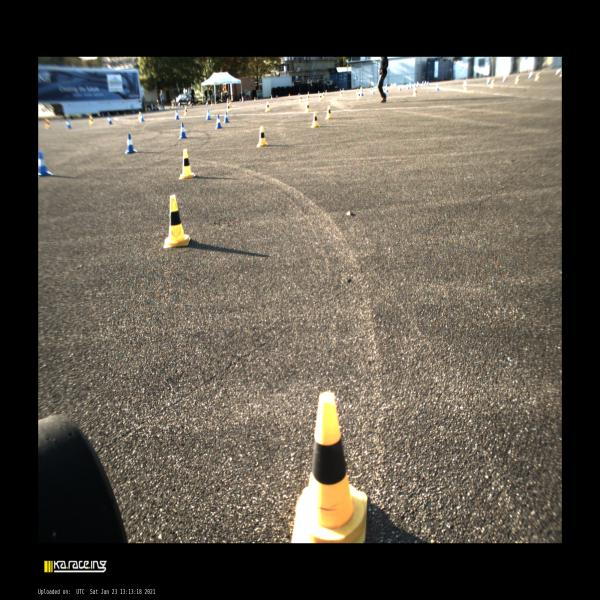blue_cone: (38, 152, 54, 176), (125, 133, 137, 154), (179, 122, 188, 138), (215, 114, 222, 128), (224, 111, 230, 122), (174, 110, 180, 120), (66, 119, 72, 129), (206, 109, 211, 120), (360, 86, 364, 96), (140, 113, 144, 122), (462, 80, 466, 88), (109, 116, 112, 125), (436, 83, 439, 91), (487, 77, 490, 84), (372, 88, 375, 94), (386, 86, 389, 92), (407, 83, 410, 89), (416, 81, 419, 87), (399, 84, 401, 91), (384, 88, 386, 94), (424, 80, 426, 86), (410, 83, 412, 88), (414, 82, 416, 87), (427, 81, 429, 86), (339, 88, 341, 92), (102, 114, 104, 117), (132, 110, 134, 113), (206, 102, 208, 105), (239, 99, 241, 102), (256, 97, 258, 100), (276, 95, 278, 98), (298, 93, 300, 96), (422, 80, 423, 85), (164, 107, 165, 111), (318, 90, 319, 94), (156, 108, 157, 110)
large_orange_cone: (226, 98, 228, 104), (242, 96, 244, 102)
yellow_cone: (292, 392, 366, 543), (164, 195, 190, 248), (179, 149, 195, 179), (258, 126, 267, 146), (311, 112, 319, 128), (325, 106, 332, 120), (305, 102, 310, 113), (265, 102, 270, 112), (89, 115, 94, 125), (534, 72, 540, 80), (226, 103, 231, 112), (46, 118, 50, 128), (184, 107, 188, 116), (413, 87, 417, 96), (490, 79, 494, 88), (515, 75, 519, 84), (357, 90, 360, 100), (306, 94, 310, 101), (138, 111, 141, 120), (464, 82, 467, 91), (319, 93, 322, 101), (299, 95, 302, 102), (322, 92, 325, 98), (391, 83, 394, 89), (559, 71, 562, 77), (356, 88, 358, 95), (340, 90, 342, 96), (370, 87, 372, 93), (374, 86, 376, 92), (211, 101, 213, 106), (229, 99, 231, 104), (361, 85, 363, 90), (124, 111, 126, 115), (254, 97, 256, 101), (288, 93, 290, 97), (325, 90, 327, 94), (342, 88, 344, 92), (98, 113, 100, 116), (376, 85, 377, 91), (271, 95, 272, 99), (170, 107, 171, 110)
